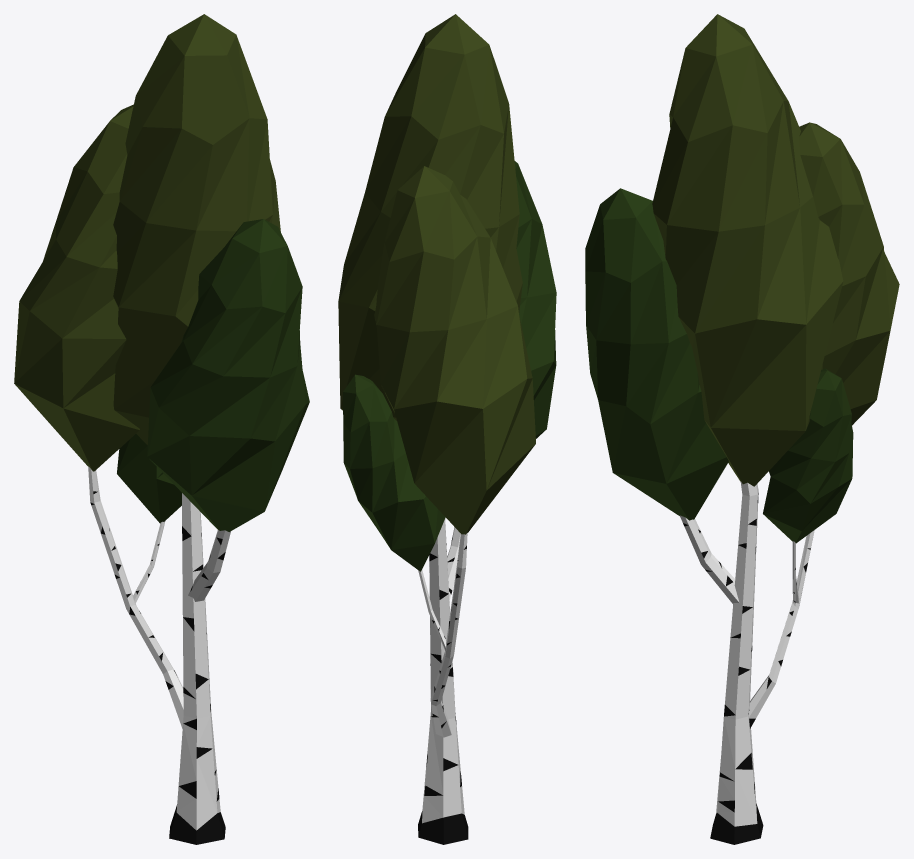
File: Birch_tr_2.FBX
The picture shows the model from 3 angles, left to right: view 1: azimuth 30°, elevation 25°; view 2: azimuth 150°, elevation 25°; view 3: azimuth 270°, elevation 25°; orthographic projection.
Parts seen in each view (by area): view 1: Object276; view 2: Object276; view 3: Object276.
Boxes of the visible parts, x1,y1,x2,y2 form: Object276: [14, 14, 309, 844]; Object276: [338, 14, 556, 844]; Object276: [585, 14, 899, 844].
Bounding box in the file's own units: 21.59 × 78.45 × 27.37.
